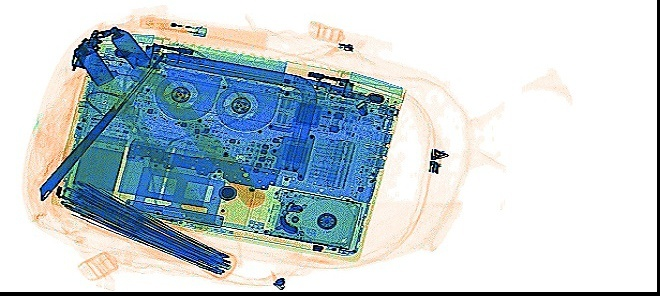knife: (37, 50, 164, 199)
lighter: (136, 15, 206, 36)
